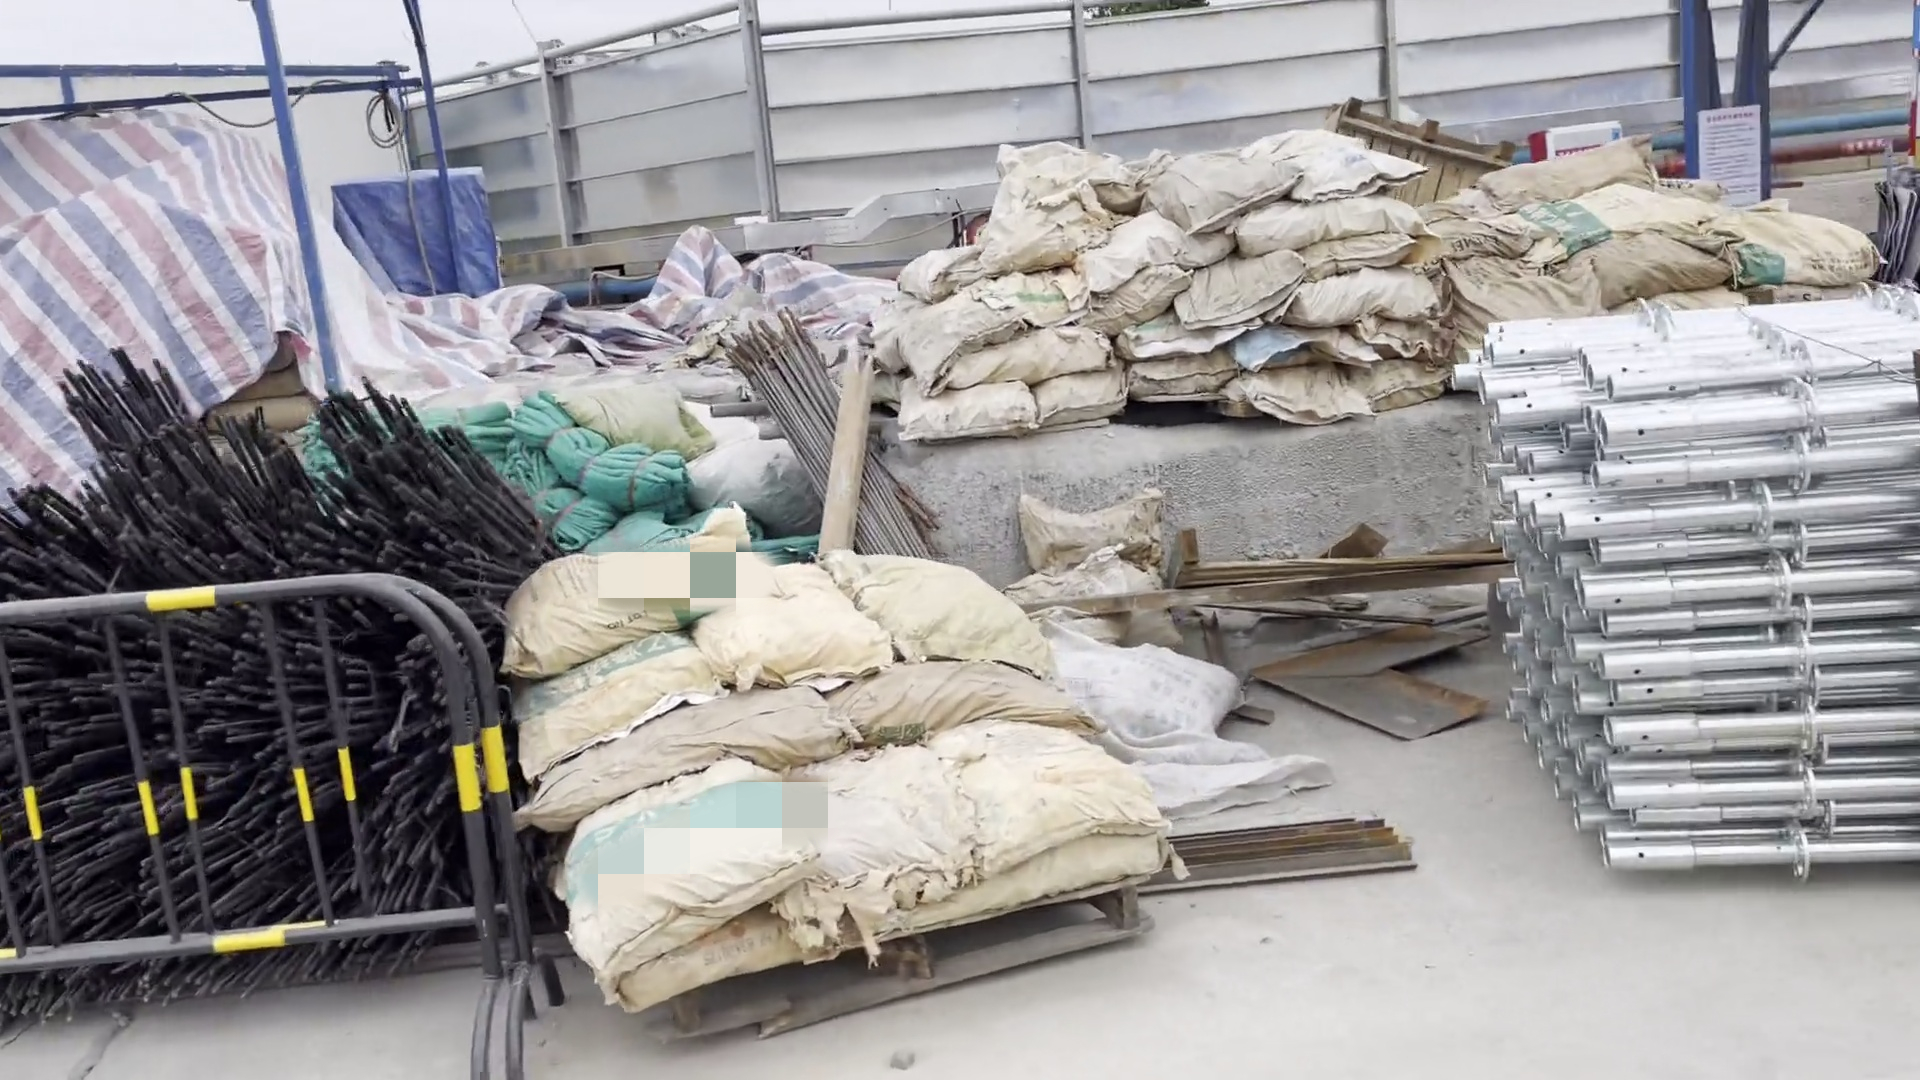scaffold: (1412, 280, 1920, 913)
